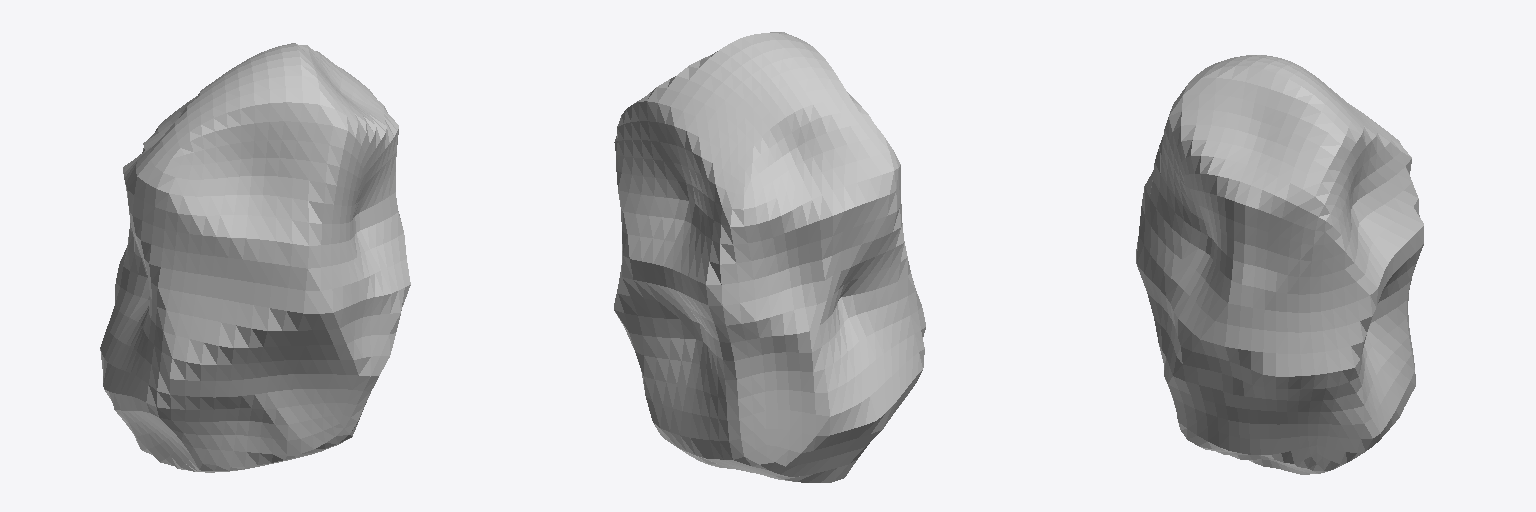
File: scoglio-5.obj
The picture shows the model from 3 angles: view 1: azimuth 30°, elevation 25°; view 2: azimuth 150°, elevation 25°; view 3: azimuth 270°, elevation 25°; orthographic projection.
Visible parts, largest first — view 1: Cube.001; view 2: Cube.001; view 3: Cube.001.
Boxes of the visible parts, <box> form: Cube.001: <box>100,43,410,472</box>; Cube.001: <box>614,32,925,482</box>; Cube.001: <box>1136,55,1423,474</box>.
Bounding box in the file's own units: 2.66 × 3.85 × 2.48.